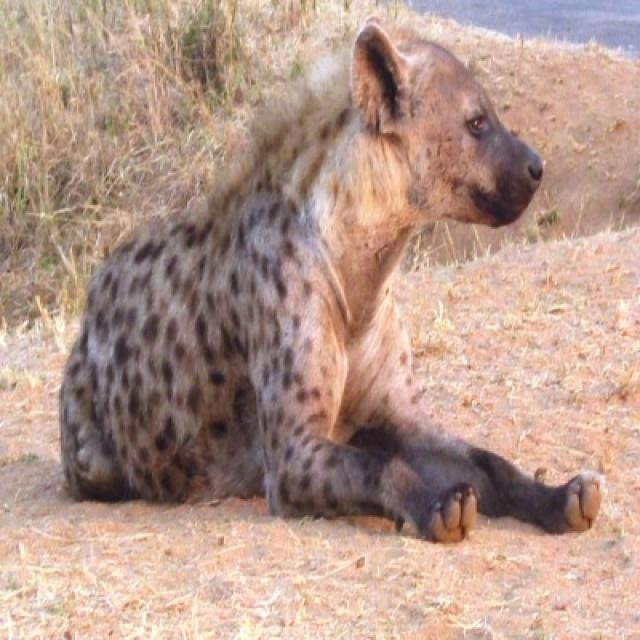hyena: (58, 21, 606, 546)
